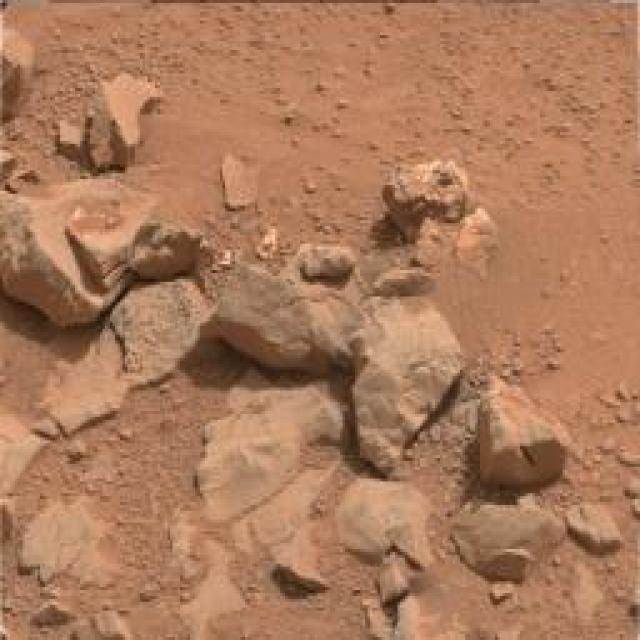rock: (197, 368, 346, 592), (32, 277, 214, 441), (0, 175, 156, 328), (354, 294, 464, 478), (210, 254, 322, 376), (270, 244, 368, 360), (16, 498, 132, 592), (50, 70, 157, 169), (450, 492, 568, 580), (476, 384, 574, 486), (340, 472, 436, 570), (404, 207, 508, 274), (380, 160, 480, 224), (566, 496, 626, 554), (2, 20, 34, 125), (218, 148, 266, 210), (371, 264, 438, 303), (375, 550, 417, 610)
